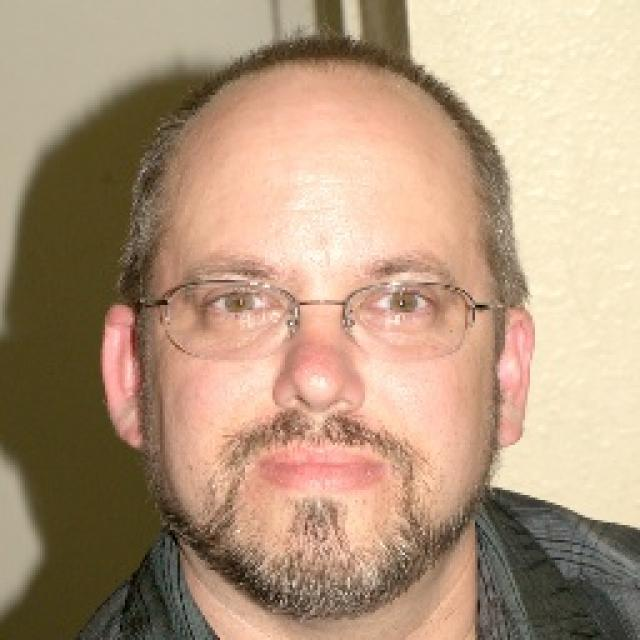earlobe: (113, 398, 150, 453), (492, 397, 527, 448)
eye: (205, 288, 279, 314), (366, 290, 438, 314)
nose: (267, 384, 369, 447)
wholeear: (100, 302, 150, 452), (492, 306, 538, 448)
